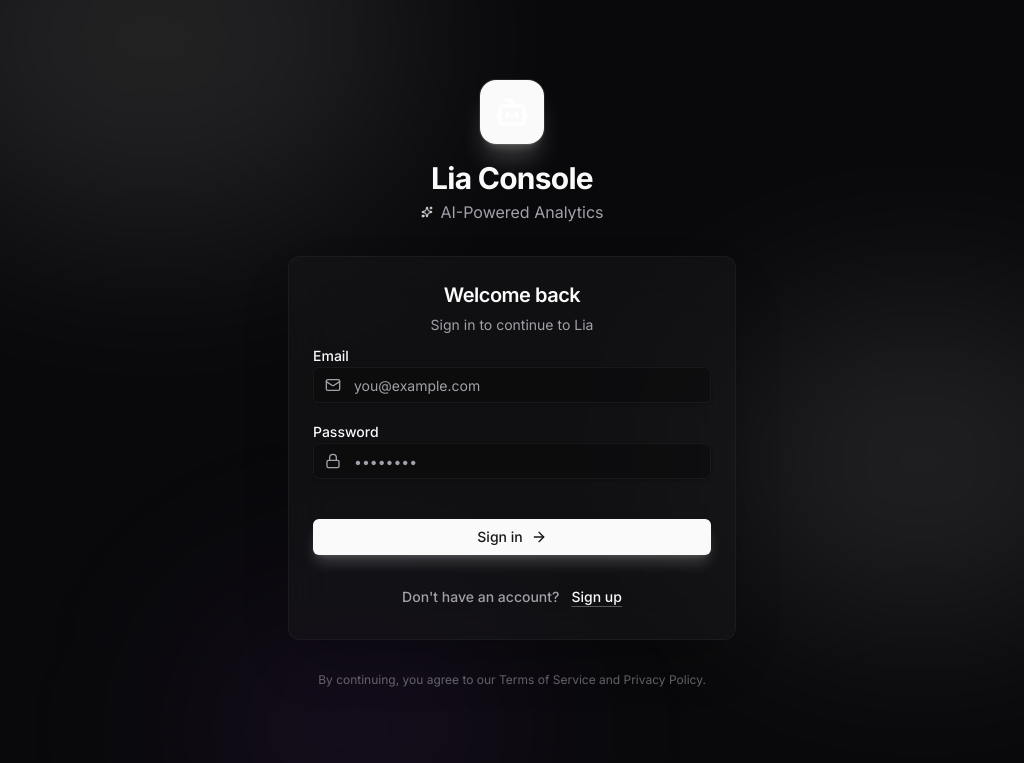
AuthPage › Register Form Submission › displays error message on register failure
Click the button "Don't have an account? Sign up" at (512, 597), box [386,579,638,615]
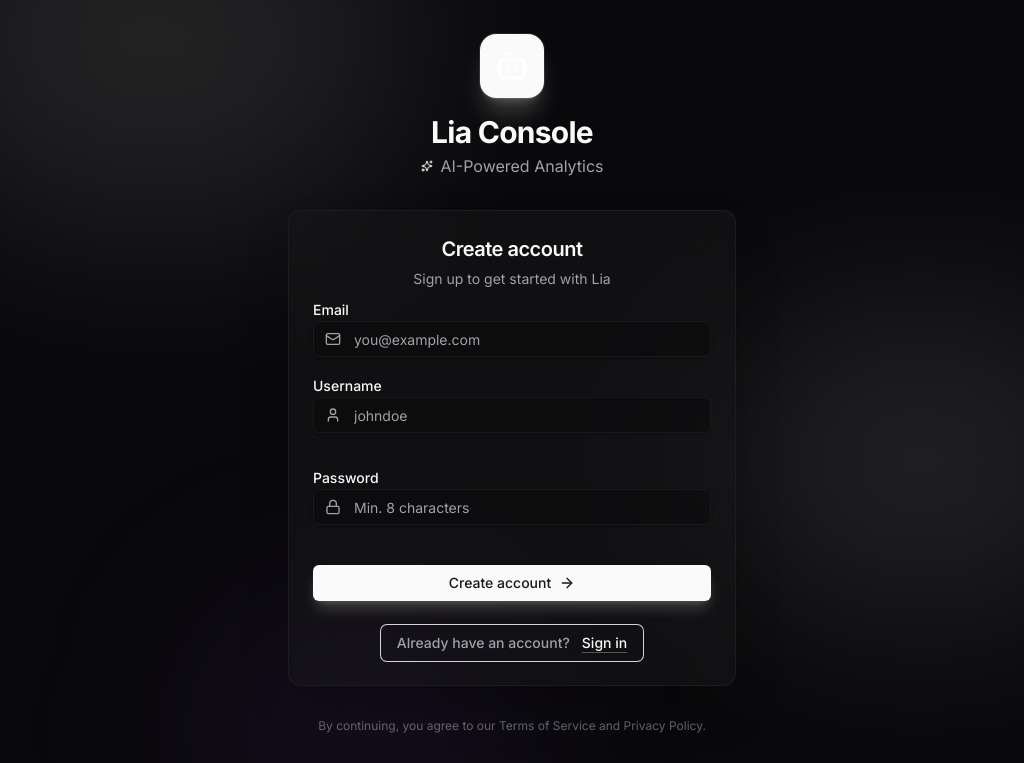
Type "existing@example.com" into the field labelled "Email" at (512, 339), box [313,321,711,357]
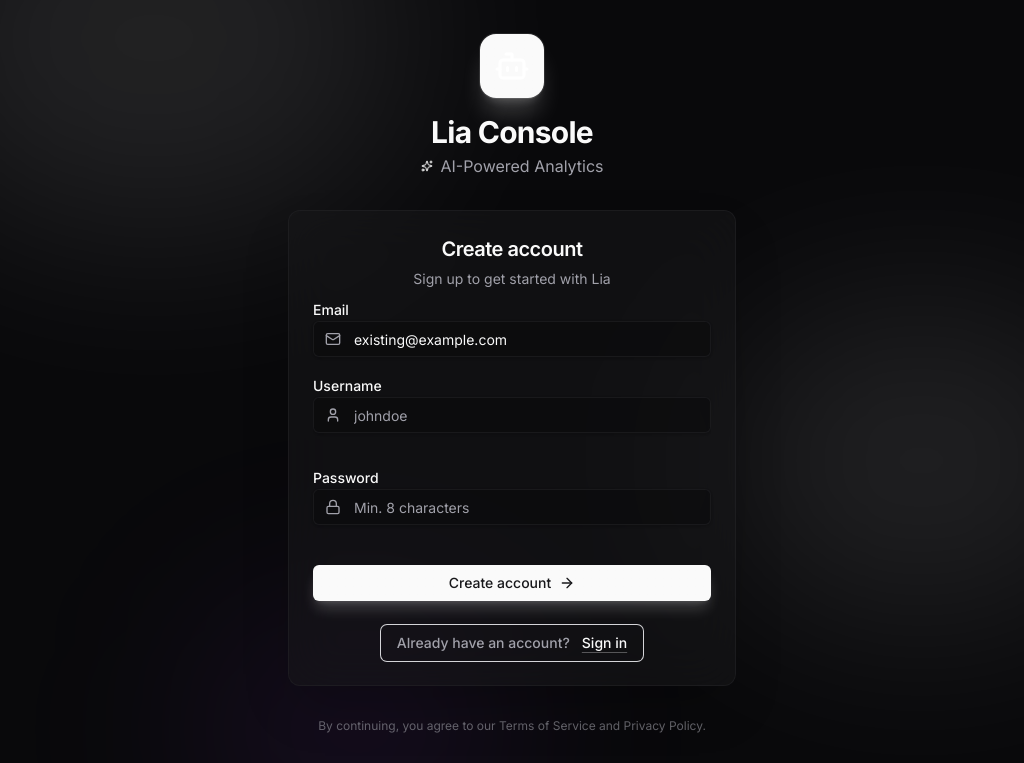
Type "existinguser" into the field labelled "Username" at (512, 415), box [313,397,711,433]
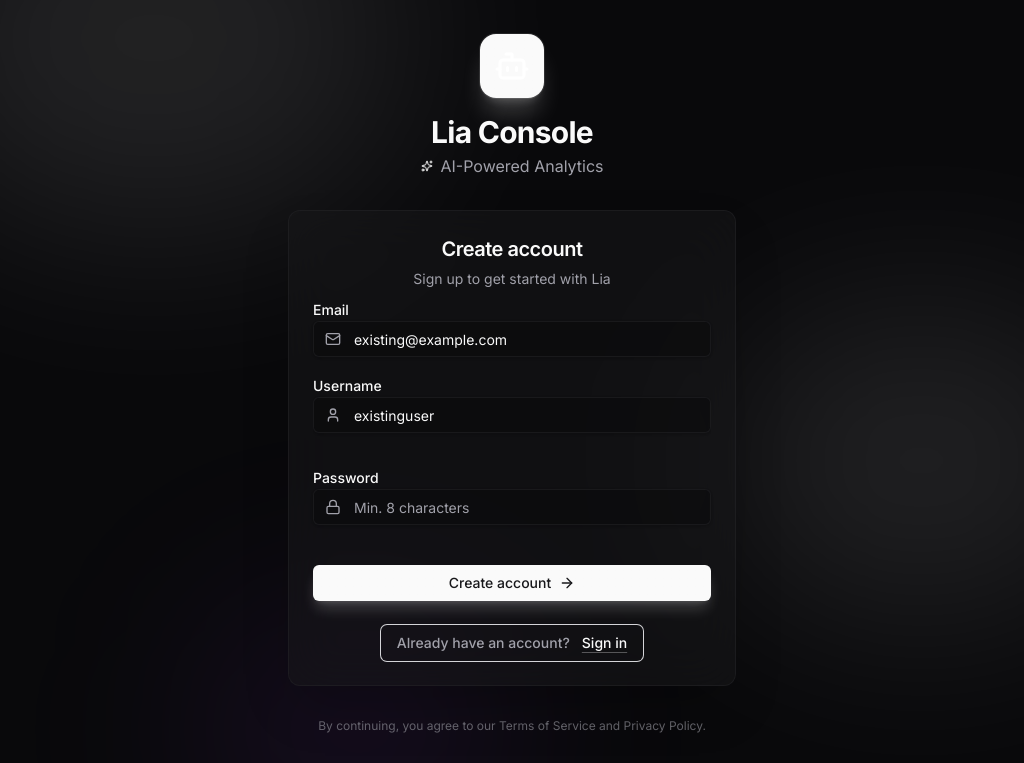
Type "password123" into the password field labelled "Password" at (512, 507), box [313,489,711,525]
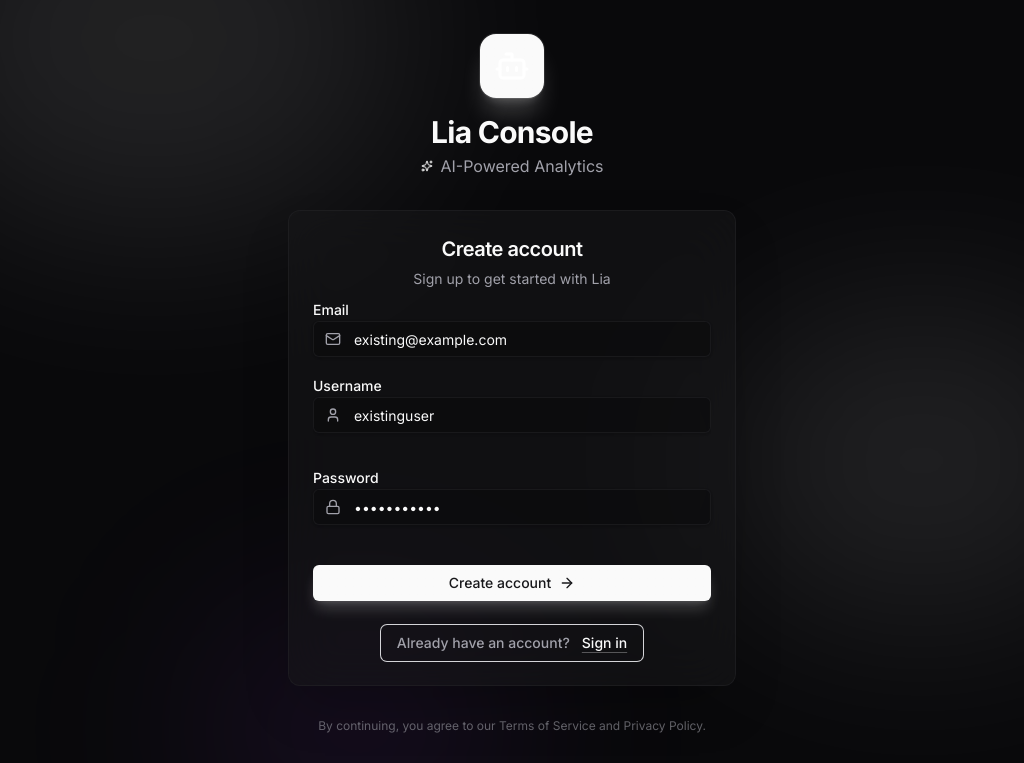
Click the button "Create account" at (512, 583), box [313,565,711,601]
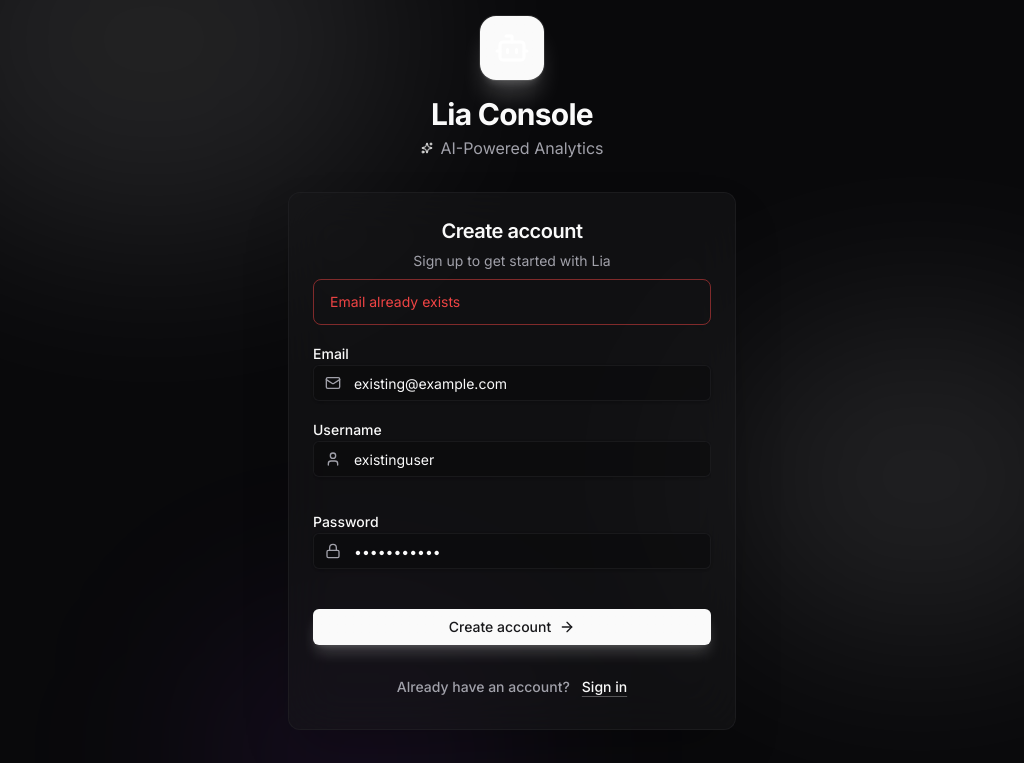
Result: the text "Email already exists" is shown at [330,293,460,310]
